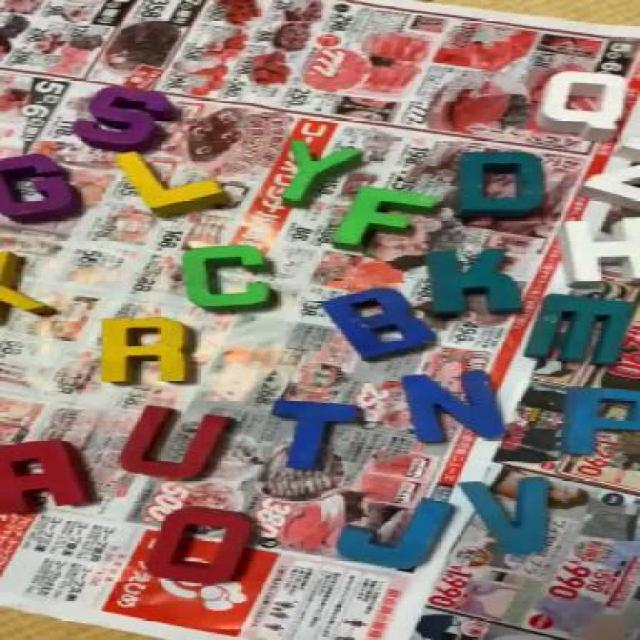A: (0, 438, 97, 520)
B: (321, 287, 430, 355)
C: (183, 248, 279, 310)
D: (447, 151, 553, 212)
F: (339, 187, 439, 250)
G: (0, 153, 82, 224)
H: (564, 221, 639, 282)
J: (344, 495, 456, 570)
K: (422, 250, 527, 316)
L: (112, 152, 231, 218)
M: (536, 294, 636, 368)
N: (404, 372, 508, 446)
O: (147, 506, 258, 585)
P: (562, 385, 640, 453)
Q: (539, 74, 638, 140)
R: (103, 316, 195, 382)
S: (80, 85, 174, 150)
T: (274, 398, 366, 468)
U: (118, 404, 230, 479)
V: (468, 478, 554, 552)
Y: (280, 140, 365, 205)
